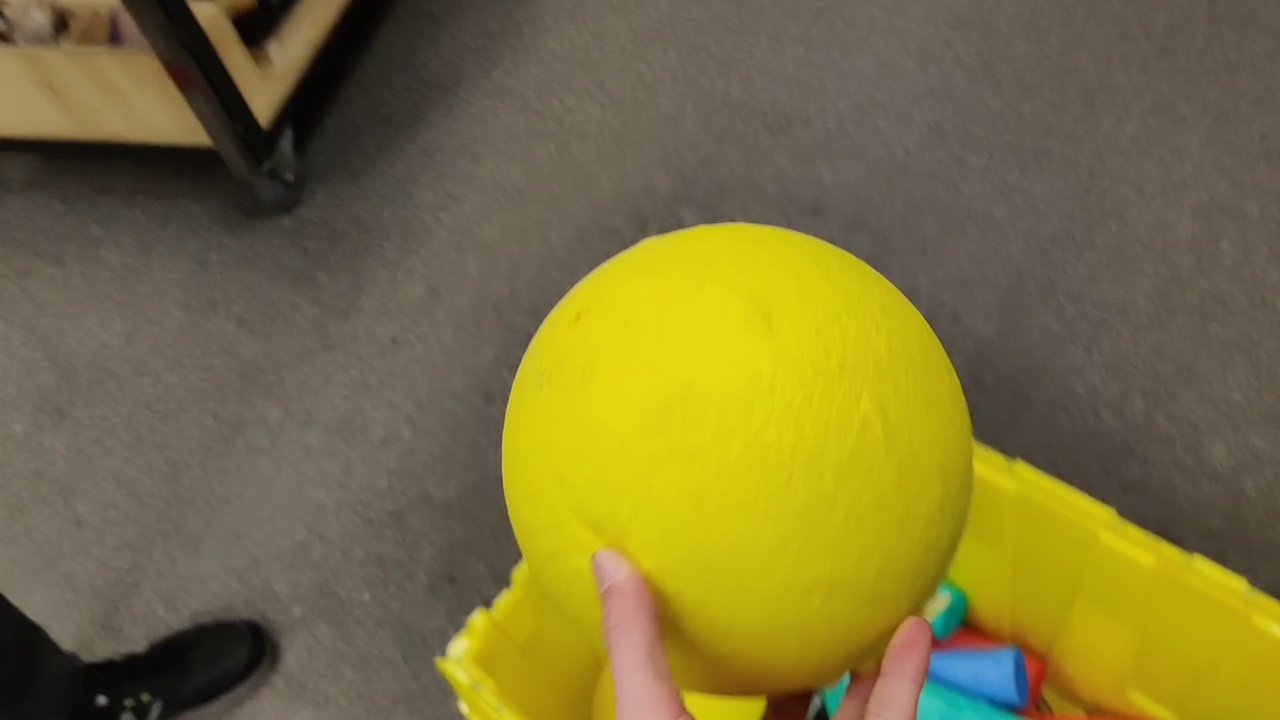Ball: (499, 221, 978, 689), (595, 648, 785, 720)
